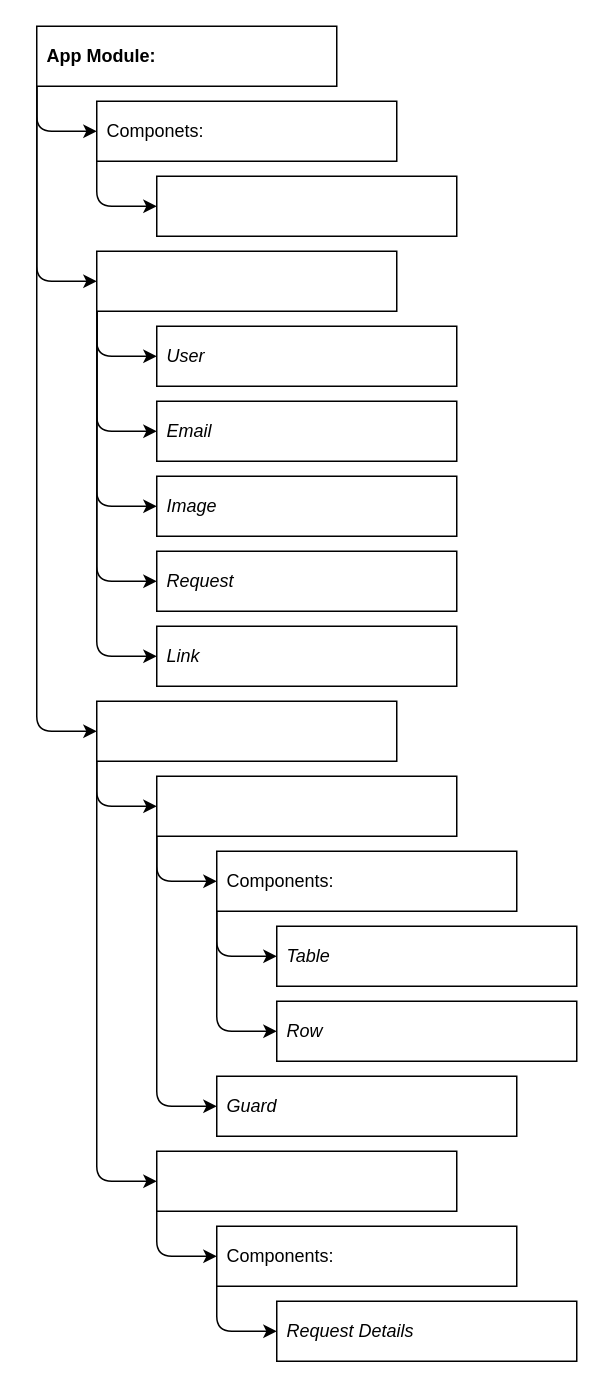
Image size: 603x1388. Some labels were removed from this diagram. Each missing label, with the centre of its shape:
Administrator:: the point at 306,805
Guest:: the point at 306,1180
Interfaces:: the point at 246,280
Modules:: the point at 246,730
Sign In: the point at 306,205
